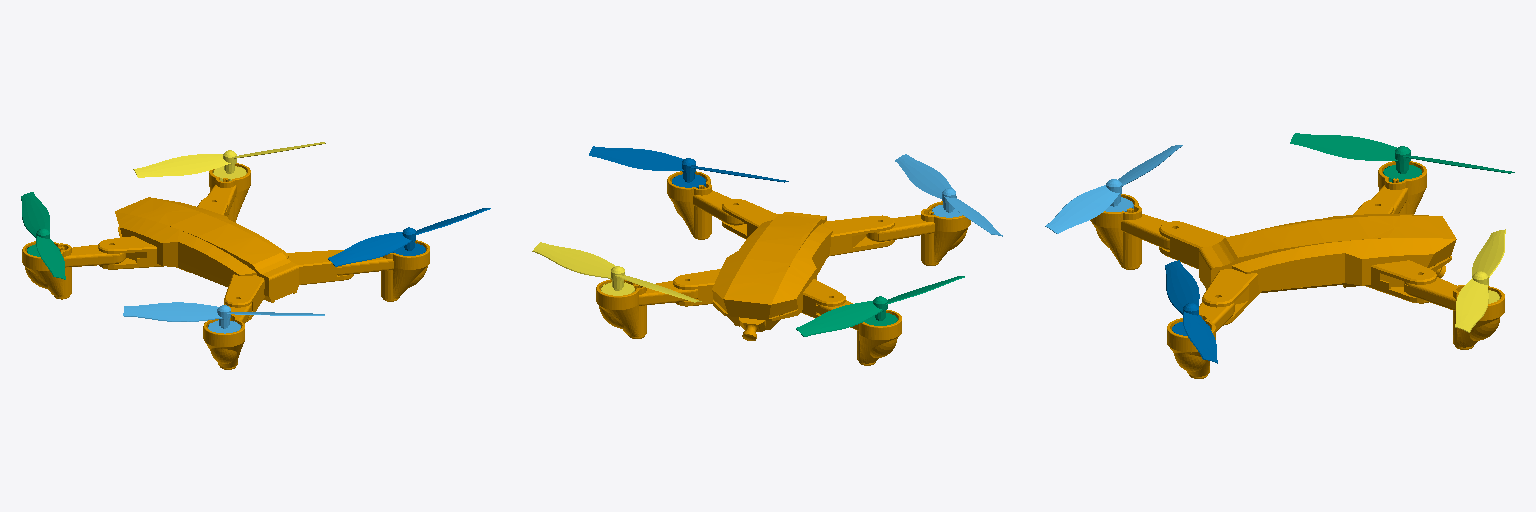
robot.urdf — drone:
<?xml version="1.0" encoding="utf-8"?>
<!-- This URDF was automatically created by SolidWorks to URDF Exporter! Originally created by [author] ([email redacted]) 
     Commit Version: 1.6.0-1-g15f4949  Build Version: 1.6.7594.29634
     For more information, please see http://wiki.ros.org/sw_urdf_exporter -->
<robot
  name="drone">
  <link
    name="base_link">
    <inertial>
      <origin
        xyz="0.10398871393486 -0.1 0.112663263182331"
        rpy="0 0 0" />
      <mass
        value="0.126804991176584" />
      <inertia
        ixx="9.97652233502536E-05"
        ixy="1.66898922524467E-07"
        ixz="-1.17703083502394E-05"
        iyy="0.000143209177105433"
        iyz="6.35072021476394E-07"
        izz="5.80634418378303E-05" />
    </inertial>
    <visual>
      <origin
        xyz="0 0 0"
        rpy="0 0 0" />
      <geometry>
        <mesh
          filename="package://drone/meshes/base_link.STL" />
      </geometry>
      
      <!-- <material
        name="">
        <color
          rgba="0.792156862745098 0.819607843137255 0.933333333333333 1" />
      </material> -->
    </visual>
    <collision>
      <origin
        xyz="0 0 0"
        rpy="0 0 0" />
      <geometry>
        <mesh
          filename="package://drone/meshes/base_link.STL" />
      </geometry>
    </collision>
  </link>

  <gazebo reference = "base_link">
      <material>Gazebo/Black</material>
      </gazebo>


  <link
    name="wing_link1">
    <inertial>
      <origin
        xyz="-1.1605E-06 0.023457 -1.5103E-06"
        rpy="0 0 0" />
      <mass
        value="0.0037436" />
      <inertia
        ixx="2.6167E-07"
        ixy="5.3921E-11"
        ixz="-4.2389E-07"
        iyy="1.7889E-06"
        iyz="2.7104E-11"
        izz="1.6769E-06" />
    </inertial>
    <visual>
      <origin
        xyz="0 0 0"
        rpy="0 0 0" />
      <geometry>
        <mesh
          filename="package://drone/meshes/wing_link1.STL" />
      </geometry>
      
      <!-- <material
        name="">
        <color
          rgba="0.79216 0.81961 0.93333 1" />
      </material> -->
    </visual>
    <collision>
      <origin
        xyz="0 0 0"
        rpy="0 0 0" />
      <geometry>
        <mesh
          filename="package://drone/meshes/wing_link1.STL" />
      </geometry>
    </collision>
  </link>

  <gazebo reference = "wing_link1">
      <material>Gazebo/Orange</material>
      </gazebo>
      
  <joint
    name="joint1"
    type="revolute">
    <origin
      xyz="0.043914 -0.22904 0.12287"
      rpy="1.5708 0 -0.29318" />
    <parent
      link="base_link" />
    <child
      link="wing_link1" />
    <axis
      xyz="0 1 0" />
    <limit
      lower="0"
      upper="0"
      effort="0"
      velocity="0" />
  </joint>
  <link
    name="wing_link2">
    <inertial>
      <origin
        xyz="-1.1602E-06 0.023457 -1.5102E-06"
        rpy="0 0 0" />
      <mass
        value="0.0037436" />
      <inertia
        ixx="2.6167E-07"
        ixy="5.3922E-11"
        ixz="-4.2389E-07"
        iyy="1.7889E-06"
        iyz="2.71E-11"
        izz="1.6769E-06" />
    </inertial>
    <visual>
      <origin
        xyz="0 0 0"
        rpy="0 0 0" />
      <geometry>
        <mesh
          filename="package://drone/meshes/wing_link2.STL" />
      </geometry>
      
      <!-- <material
        name="">
        <color
          rgba="0.79216 0.81961 0.93333 1" />
      </material> -->
    </visual>
    <collision>
      <origin
        xyz="0 0 0"
        rpy="0 0 0" />
      <geometry>
        <mesh
          filename="package://drone/meshes/wing_link2.STL" />
      </geometry>
    </collision>
  </link>

  <gazebo reference = "wing_link2">
      <material>Gazebo/Orange</material>
      </gazebo>
      
  <joint
    name="joint2"
    type="revolute">
    <origin
      xyz="-0.0033195 -0.052423 0.12287"
      rpy="1.5708 0 -1.6567" />
    <parent
      link="base_link" />
    <child
      link="wing_link2" />
    <axis
      xyz="0 1 0" />
    <limit
      lower="0"
      upper="0"
      effort="0"
      velocity="0" />
  </joint>
  <link
    name="wing_link3">
    <inertial>
      <origin
        xyz="-1.1601E-06 0.023457 -1.5102E-06"
        rpy="0 0 0" />
      <mass
        value="0.0037436" />
      <inertia
        ixx="2.6167E-07"
        ixy="5.3923E-11"
        ixz="-4.2389E-07"
        iyy="1.7889E-06"
        iyz="2.7097E-11"
        izz="1.6769E-06" />
    </inertial>
    <visual>
      <origin
        xyz="0 0 0"
        rpy="0 0 0" />
      <geometry>
        <mesh
          filename="package://drone/meshes/wing_link3.STL" />
      </geometry>
      
      <!-- <material
        name="">
        <color
          rgba="0.79216 0.81961 0.93333 1" />
      </material> -->
    </visual>
    <collision>
      <origin
        xyz="0 0 0"
        rpy="0 0 0" />
      <geometry>
        <mesh
          filename="package://drone/meshes/wing_link3.STL" />
      </geometry>
    </collision>
  </link>

  <gazebo reference = "wing_link3">
      <material>Gazebo/Orange</material>
      </gazebo>
      
  <joint
    name="joint3"
    type="revolute">
    <origin
      xyz="0.17791 -0.0047715 0.12287"
      rpy="1.5708 0 -3.0248" />
    <parent
      link="base_link" />
    <child
      link="wing_link3" />
    <axis
      xyz="0 1 0" />
    <limit
      lower="0"
      upper="0"
      effort="0"
      velocity="0" />
  </joint>
  <link
    name="wing_link4">
    <inertial>
      <origin
        xyz="-1.163E-06 0.023457 -1.5107E-06"
        rpy="0 0 0" />
      <mass
        value="0.0037436" />
      <inertia
        ixx="2.6167E-07"
        ixy="5.3919E-11"
        ixz="-4.2389E-07"
        iyy="1.7889E-06"
        iyz="2.7123E-11"
        izz="1.6769E-06" />
    </inertial>
    <visual>
      <origin
        xyz="0 0 0"
        rpy="0 0 0" />
      <geometry>
        <mesh
          filename="package://drone/meshes/wing_link4.STL" />
      </geometry>
      
      <!-- <material
        name="">
        <color
          rgba="0.79216 0.81961 0.93333 1" />
      </material> -->
    </visual>
    <collision>
      <origin
        xyz="0 0 0"
        rpy="0 0 0" />
      <geometry>
        <mesh
          filename="package://drone/meshes/wing_link4.STL" />
      </geometry>
    </collision>
  </link>

  <gazebo reference = "wing_link4">
      <material>Gazebo/Orange</material>
      </gazebo>
      
  <joint
    name="joint4"
    type="revolute">
    <origin
      xyz="0.22366 -0.18178 0.12287"
      rpy="1.5708 0 0.43793" />
    <parent
      link="base_link" />
    <child
      link="wing_link4" />
    <axis
      xyz="0 1 0" />
    <limit
      lower="0"
      upper="0"
      effort="0"
      velocity="0" />
  </joint>
</robot>

--- Facts derived from the render (not from the file) ---
The picture shows the robot from 3 angles, left to right: view 1: azimuth 30°, elevation 25°; view 2: azimuth 150°, elevation 25°; view 3: azimuth 270°, elevation 25°; orthographic projection.
Model drone with 5 links and 4 joints (4 revolute), rooted at base_link, posed every joint at zero.
Visible links, largest first — view 1: base_link, wing_link1, wing_link3, wing_link4, wing_link2; view 2: base_link, wing_link3, wing_link4, wing_link2, wing_link1; view 3: base_link, wing_link2, wing_link1, wing_link4, wing_link3.
Link boxes in pixels (box(x1,y1,x2,y2)): base_link: box(22, 163, 429, 369); wing_link1: box(123, 302, 324, 333); wing_link3: box(133, 142, 325, 181); wing_link4: box(328, 208, 490, 266); wing_link2: box(21, 192, 65, 279); base_link: box(596, 171, 970, 365); wing_link3: box(532, 242, 701, 302); wing_link4: box(589, 146, 788, 188); wing_link2: box(796, 276, 964, 336); wing_link1: box(895, 154, 1002, 236); base_link: box(1090, 161, 1504, 378); wing_link2: box(1290, 133, 1514, 182); wing_link1: box(1045, 145, 1182, 233); wing_link4: box(1165, 260, 1217, 363); wing_link3: box(1455, 229, 1505, 332).
Bounding box of the posed robot: 0.3285 × 0.2882 × 0.0545 m (x, y, z).
5 mesh visuals loaded from 5 distinct referenced files (5 binary STL).